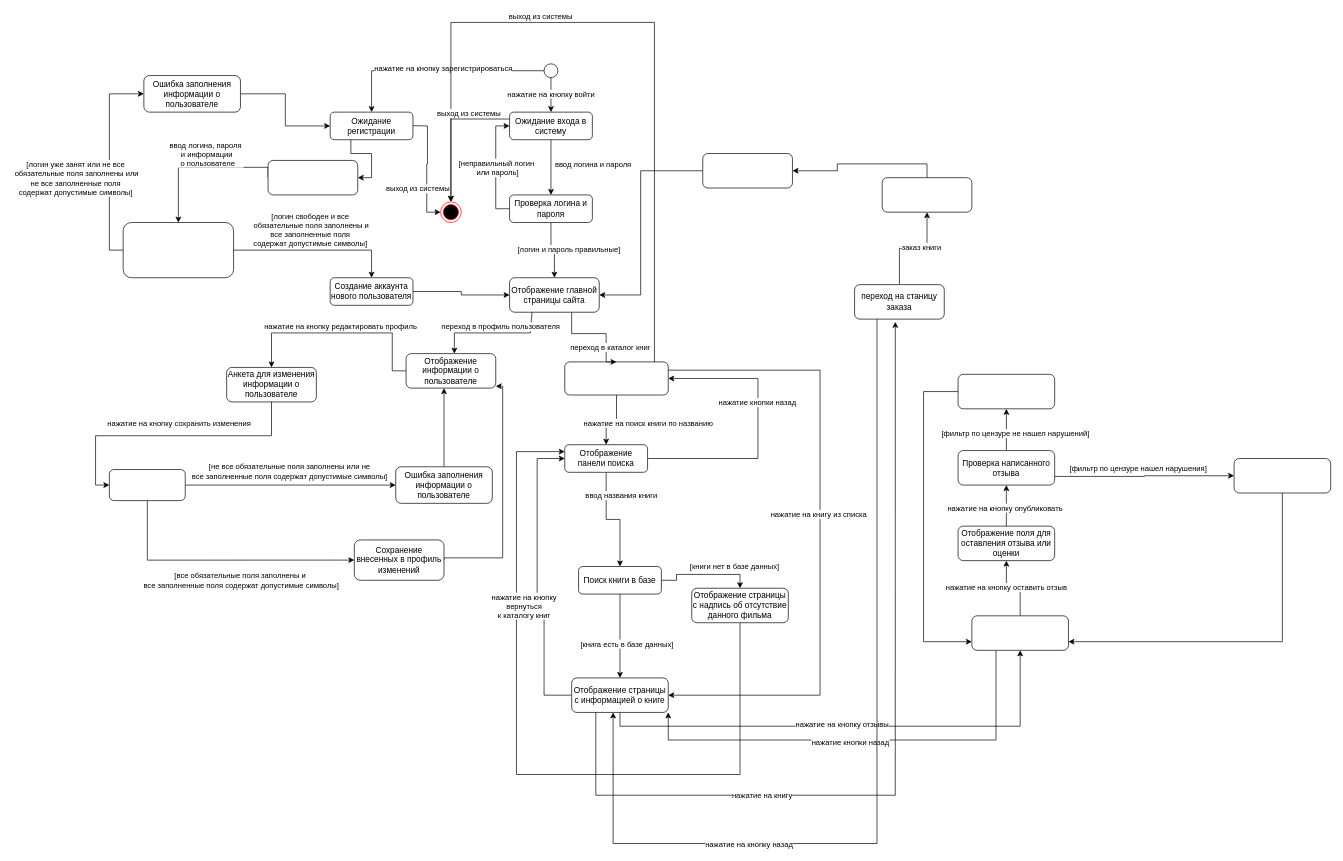
This 1343x861 diagram has some shape labels left out. Each missing label, with the box of its shape:
Отображение анкеты для регистрации: (267, 160, 358, 195)
Отображение страницы с отзывами и оценками книги: (971, 615, 1068, 650)
Отображения страницы с книгами: (564, 361, 668, 395)
Отправка данных о заказе на почту: (702, 153, 792, 188)
Проверка данных: (881, 177, 972, 212)
Проверка корректности заполнения полей: (109, 469, 185, 501)
Проверка свободности логина и корректности заполнения поле ргистрации: (122, 222, 234, 278)
Публикация отзыва: (957, 374, 1055, 409)
Сообщение об ошибке публикации: (1233, 458, 1331, 493)
